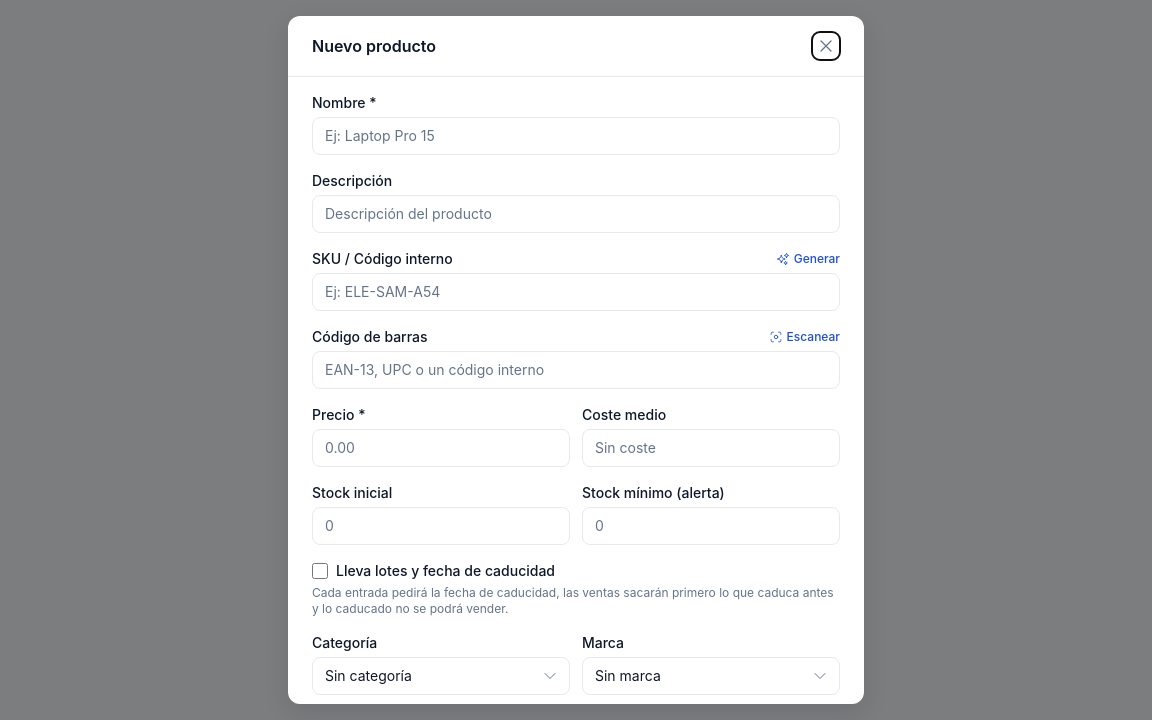
it: El campo del formulario (T5-08) › un EAN con el dígito de control mal no se envía
Type "Teclado" into the field labelled "Nombre *" at [576, 136], box [312, 117, 840, 155]
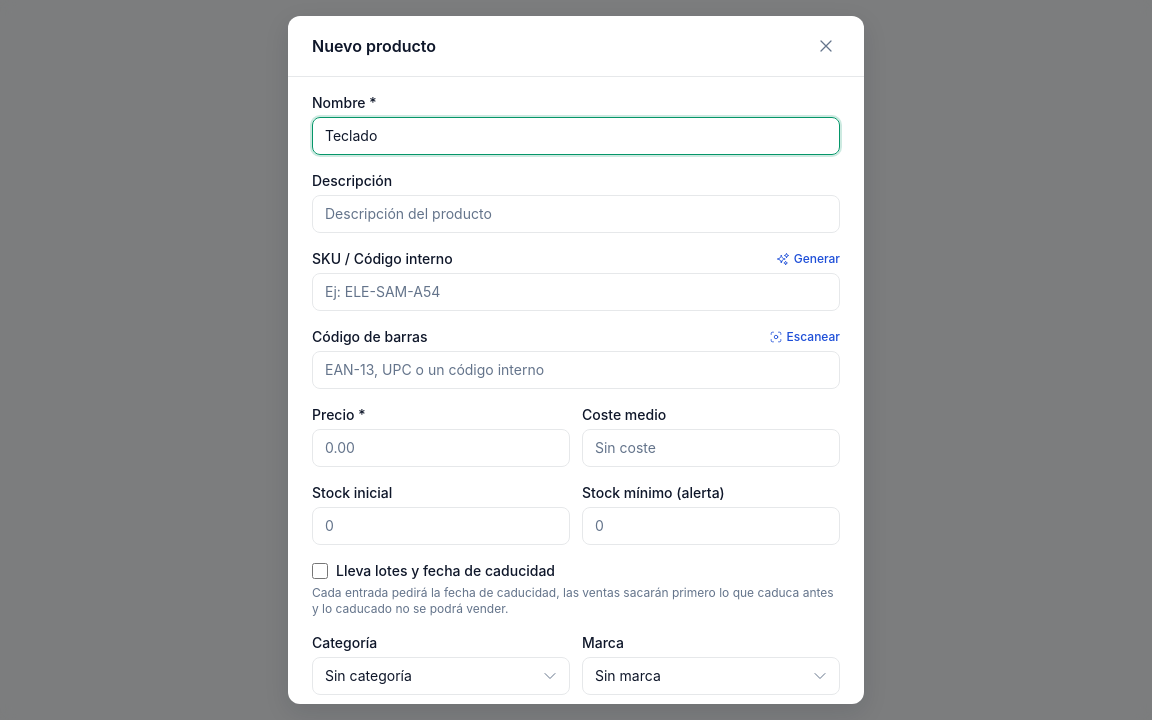
Type "10" into the number field labelled "Precio *" at [441, 448], box [312, 429, 570, 467]
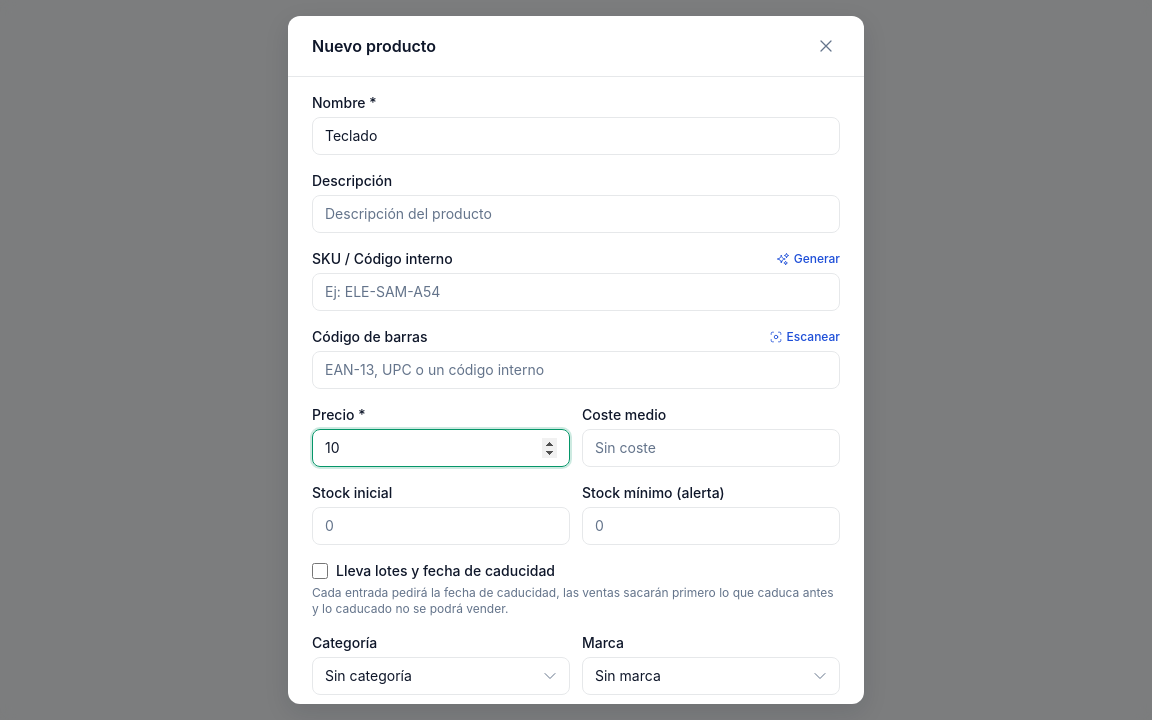
Type "4006381333932" into the field labelled "Código de barras" at [576, 370], box [312, 351, 840, 389]
(page scrolled)
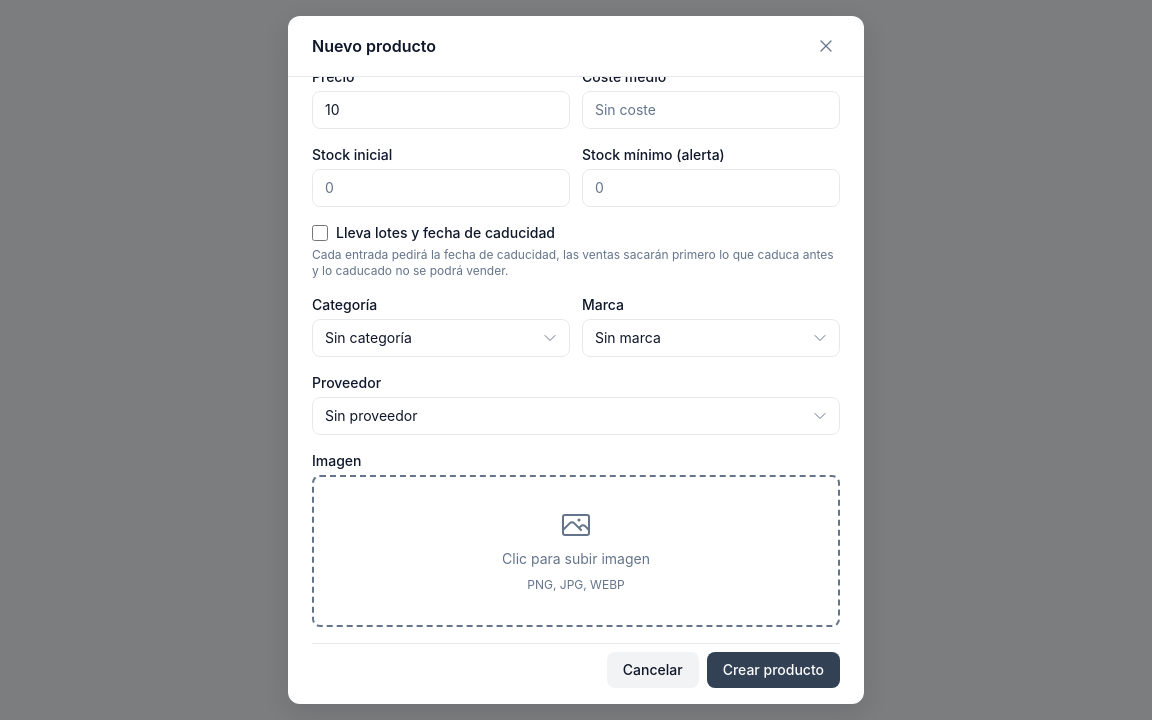
Click the button "Crear producto" at [773, 670], box [707, 652, 840, 688]
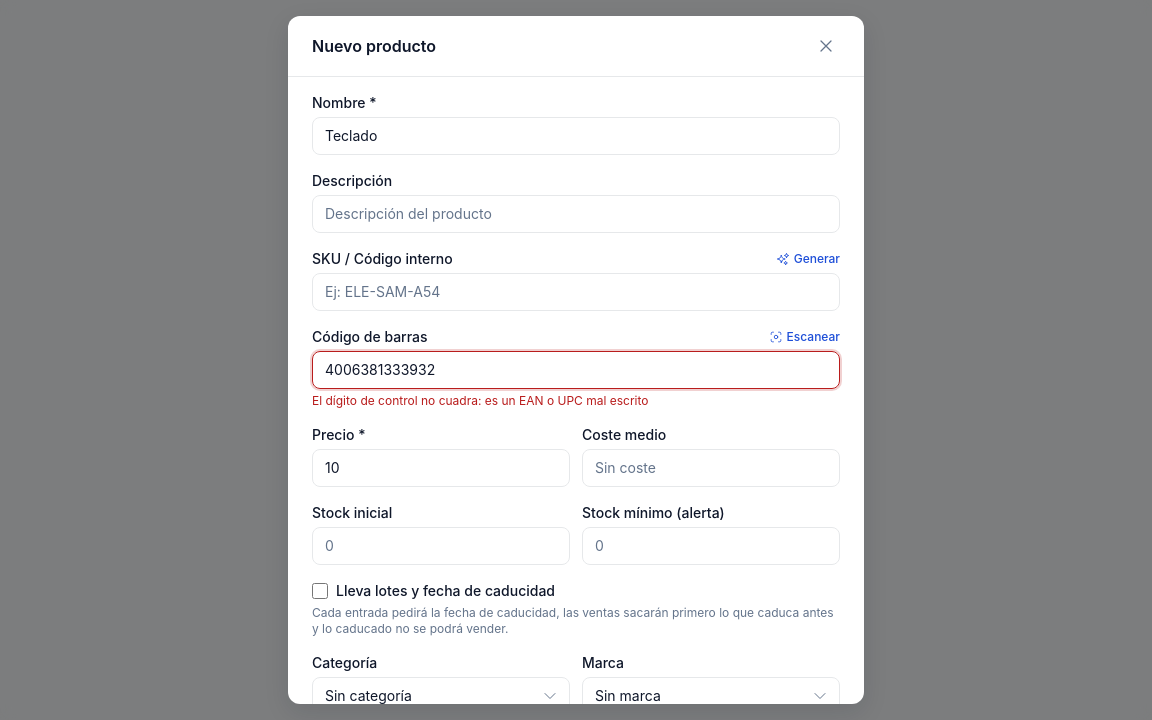
Check: the text "El dígito de control no cuadra: es un EAN o UPC mal escrito" is shown, box [312, 393, 648, 408]
